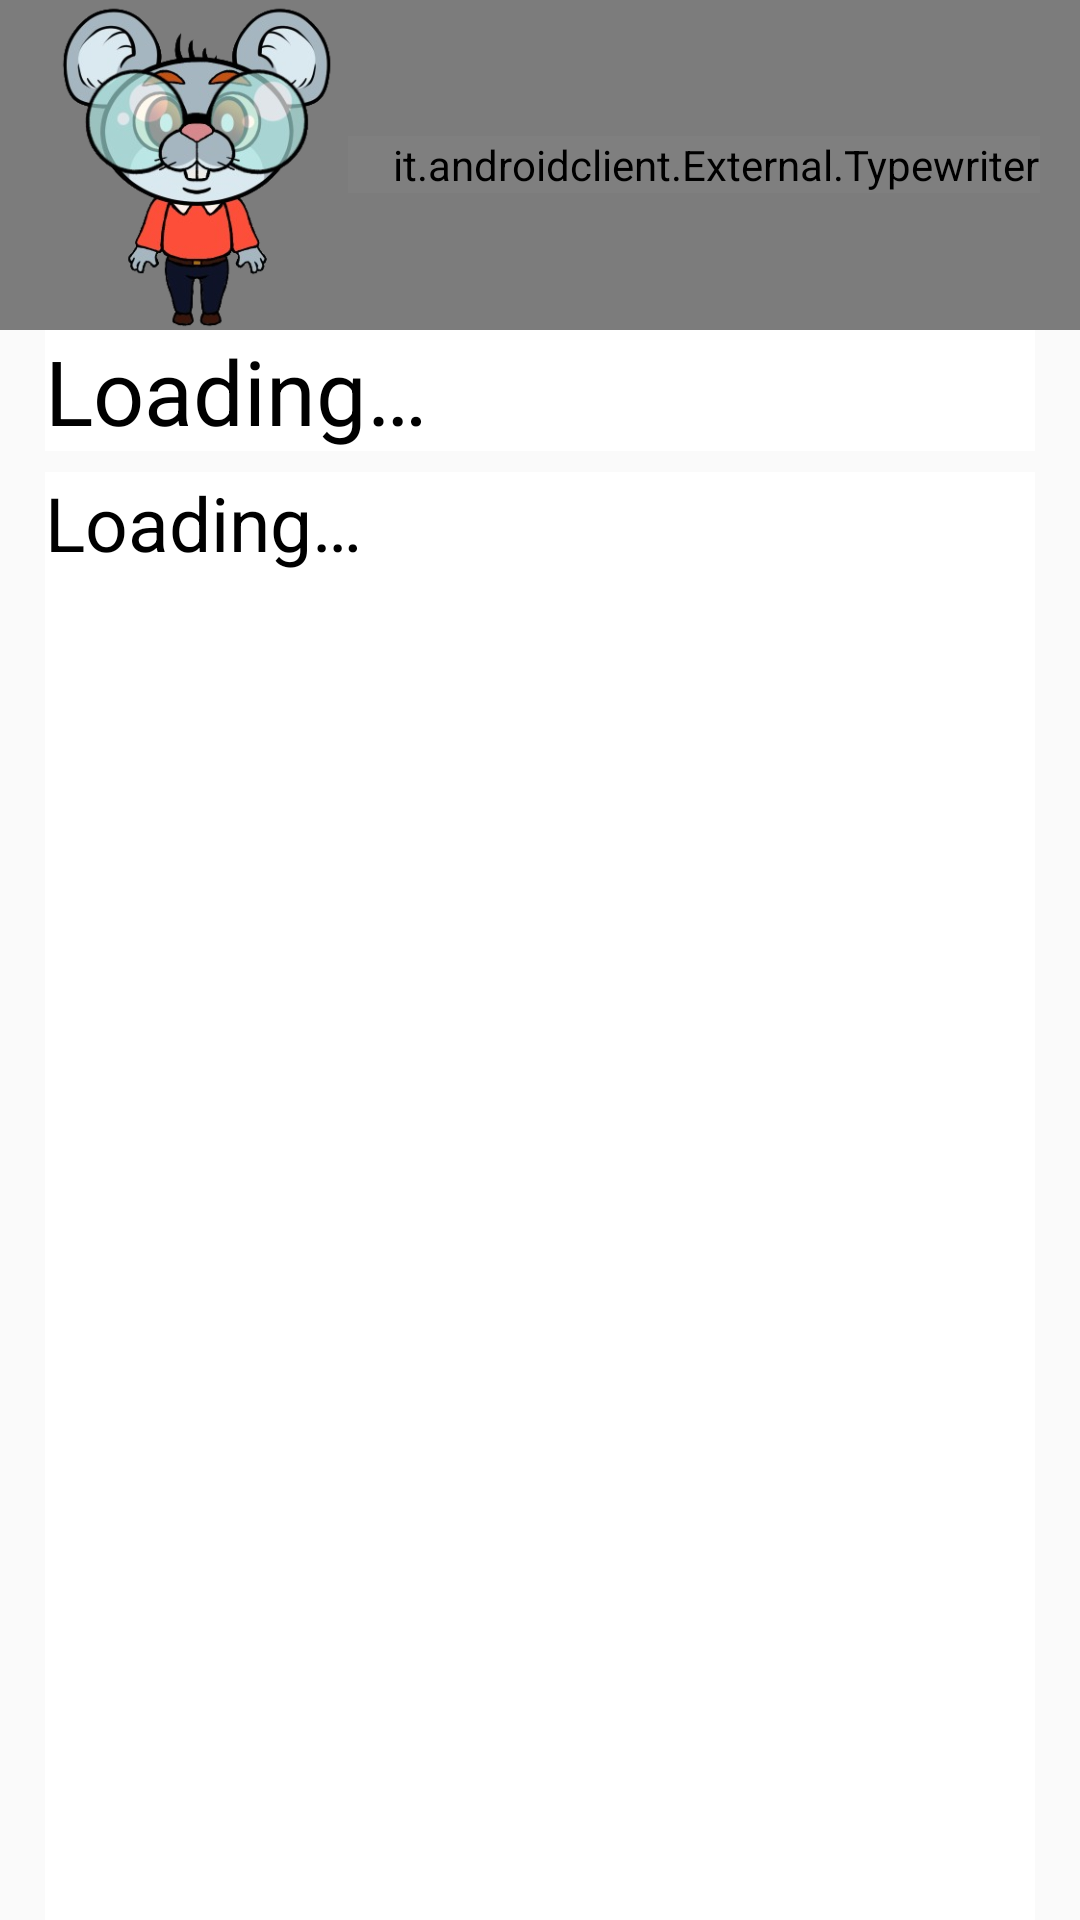

Icon bounding boxes for this 1080px x 1920px phone screenshot, format [left=x1, top=y1, right=x2, bottom=y2]:
mouse: [left=63, top=8, right=331, bottom=326]
